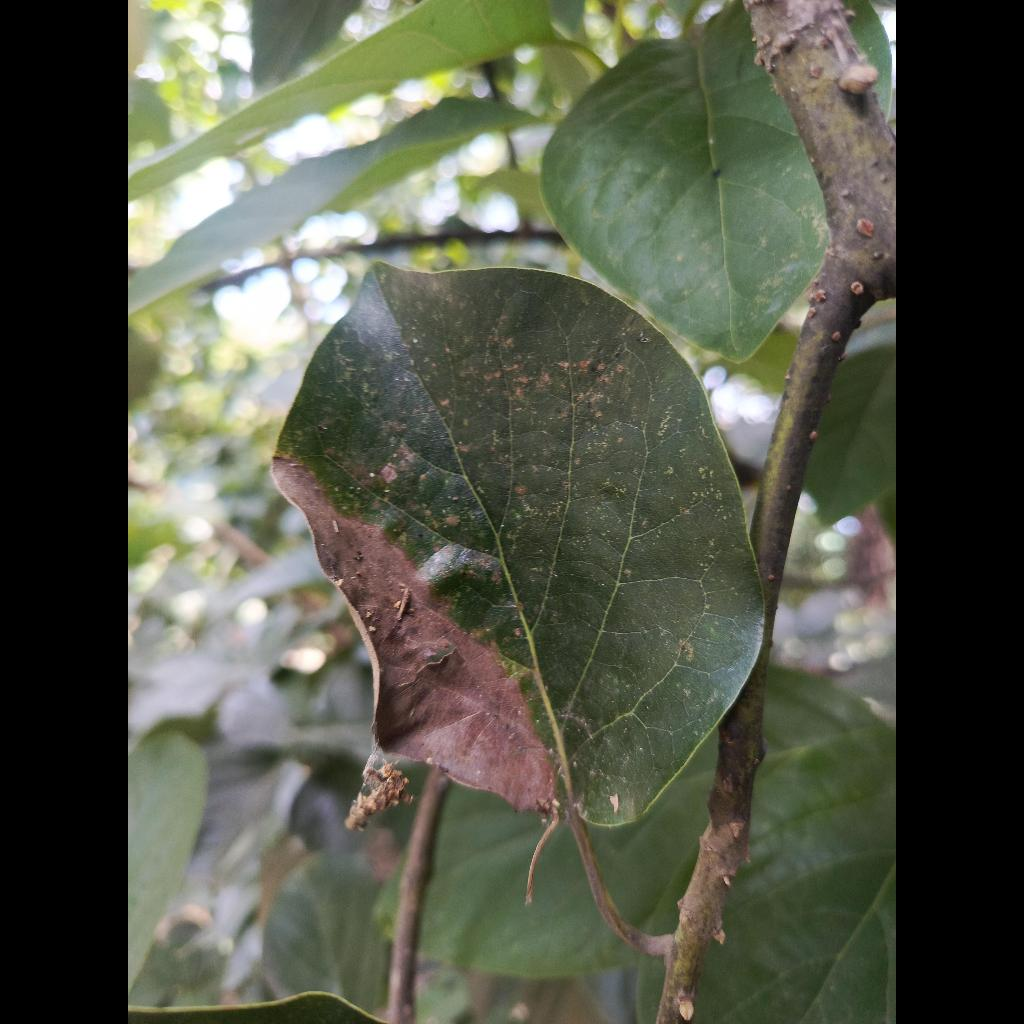antracnosis_hoja: (273, 263, 763, 825)
